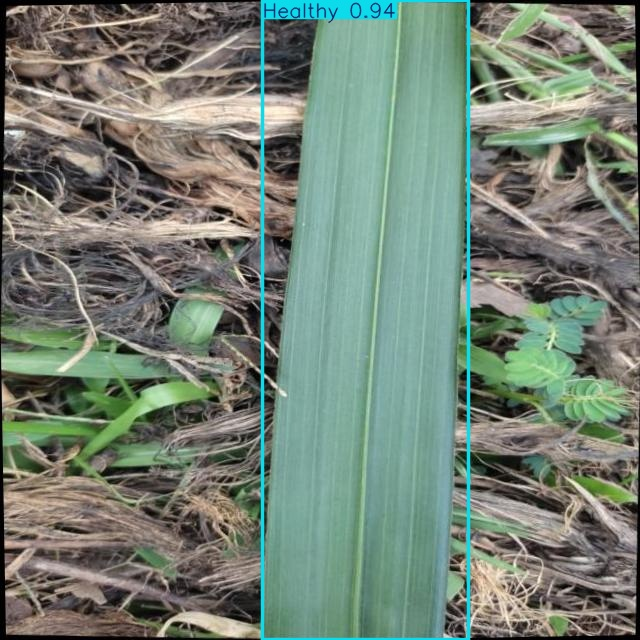Healthy: (263, 0, 468, 639)
